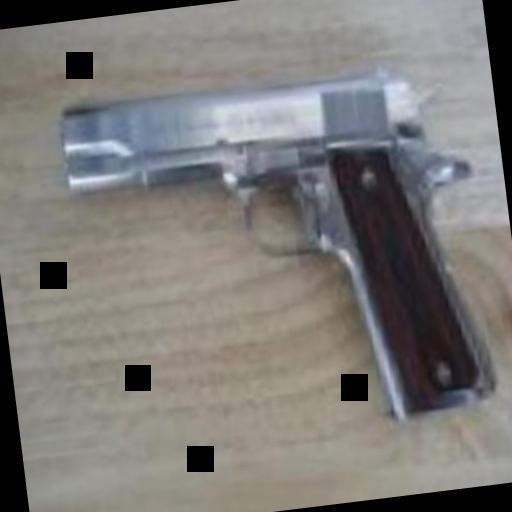Handgun: (52, 54, 504, 450)
